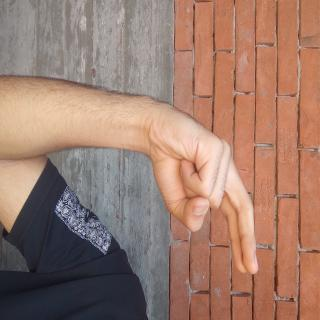ZAY: (66, 76, 215, 252)
